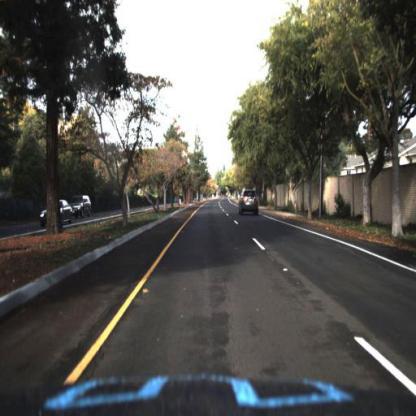car: (66, 195, 94, 221), (238, 188, 262, 218)
